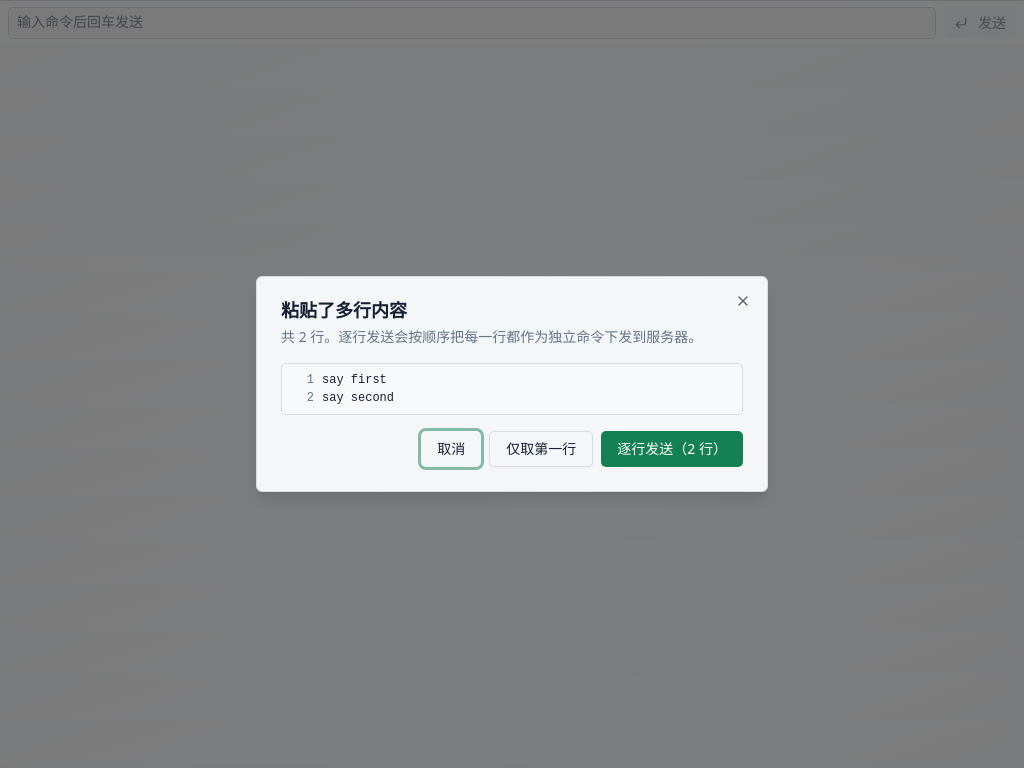
Test: FR-416 多行粘贴保护 › 分支③取消：什么都不发、输入框不变
Click the button "取消" at point(451, 449), box x1=421 y1=431 x2=481 y2=467
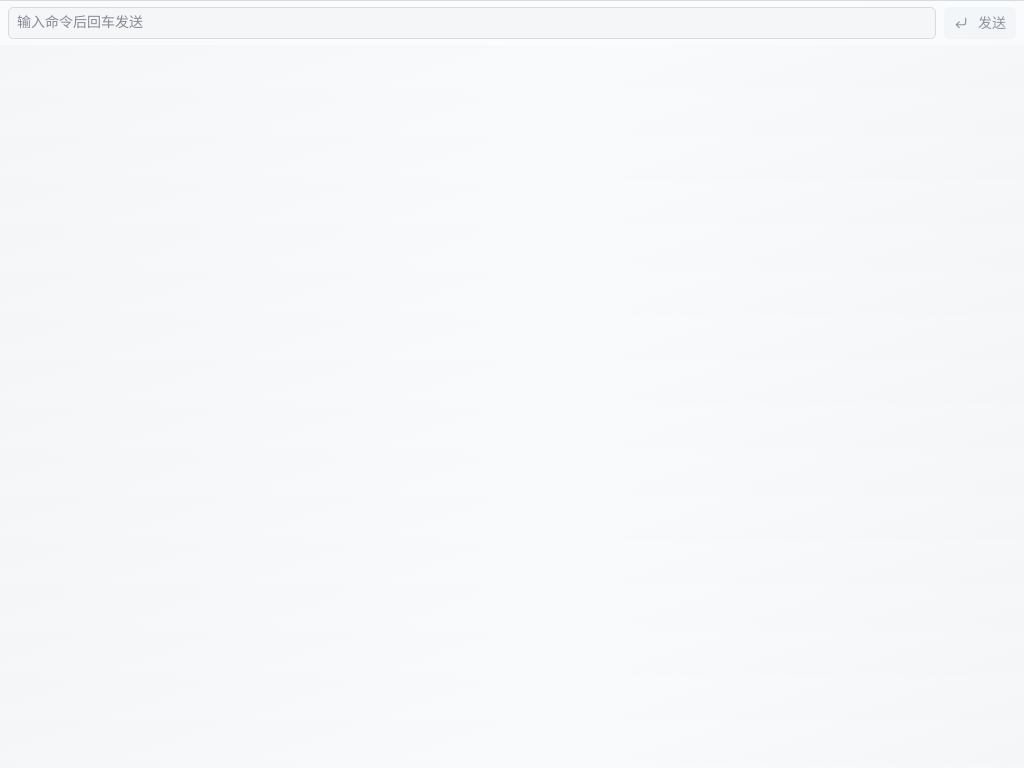
Check: the field named "控制台命令输入" is empty, box x1=8 y1=7 x2=936 y2=39
Check: the dialog is gone
